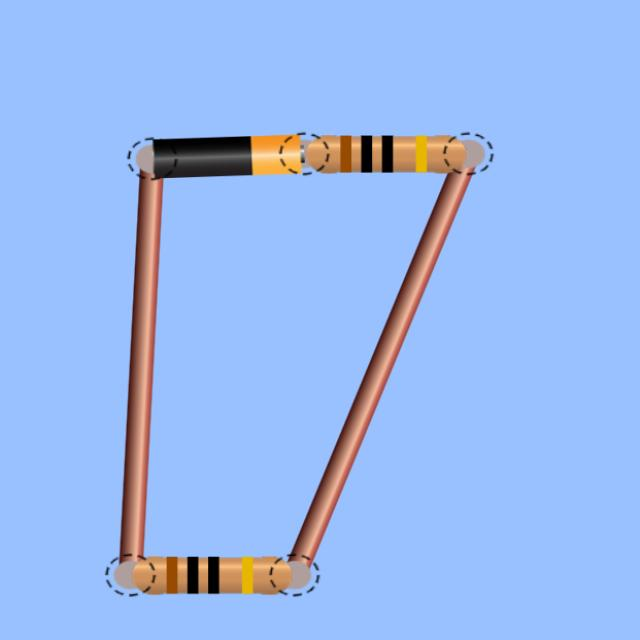Battery: (153, 135, 300, 178)
Resistor: (132, 556, 292, 595), (306, 135, 466, 173)
Wire: (289, 168, 472, 566), (119, 171, 163, 561)
